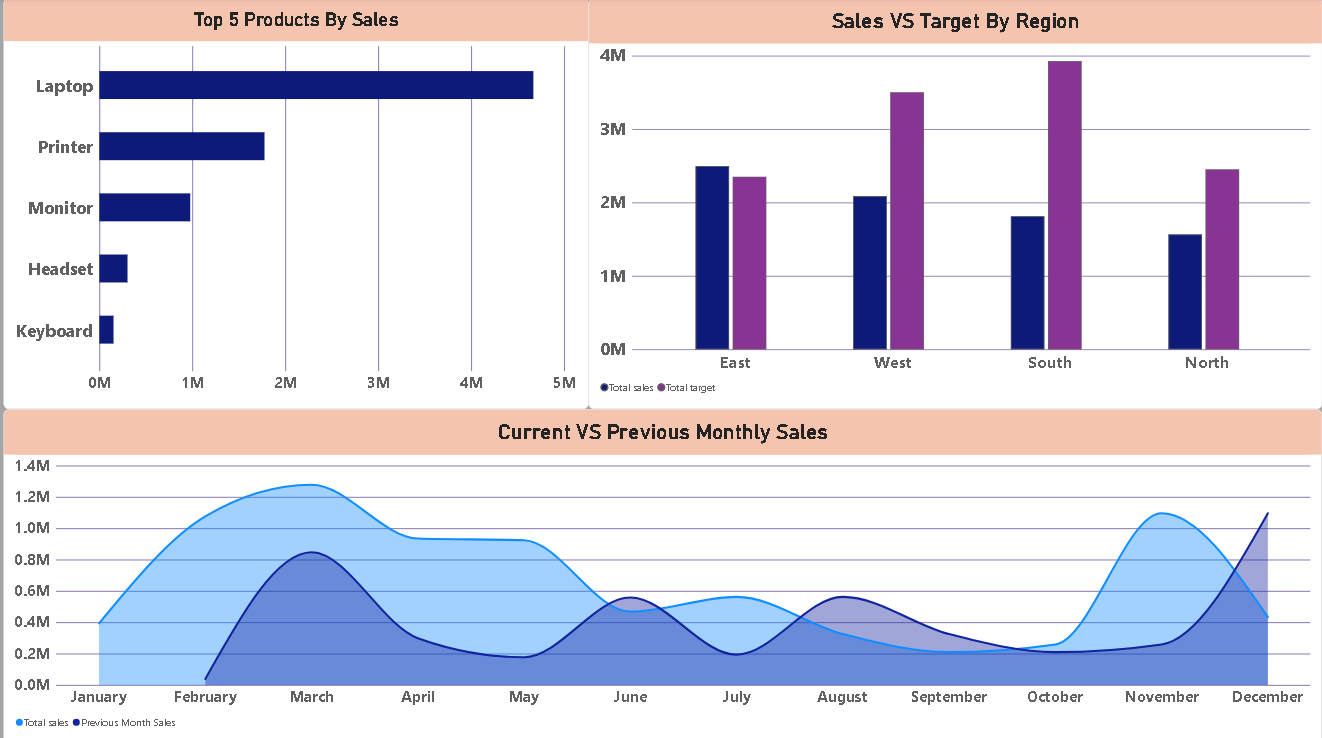

This screenshot's page, from the dashboard's own definition file:
{"tool":"powerbi","page":{"name":"Page 2","canvas":[1920,1080],"ordinal":1},"visuals":[{"type":"clusteredBarChart","title":"Top 5 Products By Sales","fields":{"Category":["SalesDataTable.Product"],"Y":["SalesDataTable.Total sales"]},"box":[10.9,0,846.9,595.4],"z":0},{"type":"clusteredColumnChart","title":"Sales VS Target By Region","fields":{"Category":["SalesDataTable.Region"],"Y":["SalesDataTable.Total sales","SalesDataTable.Total target"]},"box":[857.8,0,1062.3,595.4],"z":1000},{"type":"lineChart","title":"Current VS Previous Monthly Sales","fields":{"Category":["DateTable.Month"],"Y":["SalesDataTable.Total sales","SalesDataTable.Previous Month Sales"]},"box":[10.9,595.4,1909.2,485],"z":2000}]}

Visuals, with their boxes in screenshot pixels (x1, y1, x2, y2), scaled from the page's 1920x1080 canvas onto the 1322x738 screenshot:
"Top 5 Products By Sales" clusteredBarChart: [left=8, top=0, right=591, bottom=407]
"Sales VS Target By Region" clusteredColumnChart: [left=591, top=0, right=1321, bottom=407]
"Current VS Previous Monthly Sales" lineChart: [left=8, top=407, right=1321, bottom=737]
